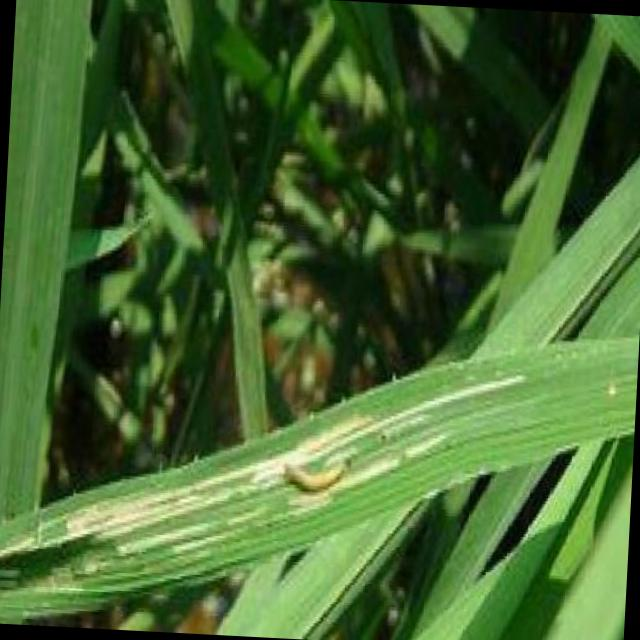leaf-folder: (267, 433, 352, 506)
